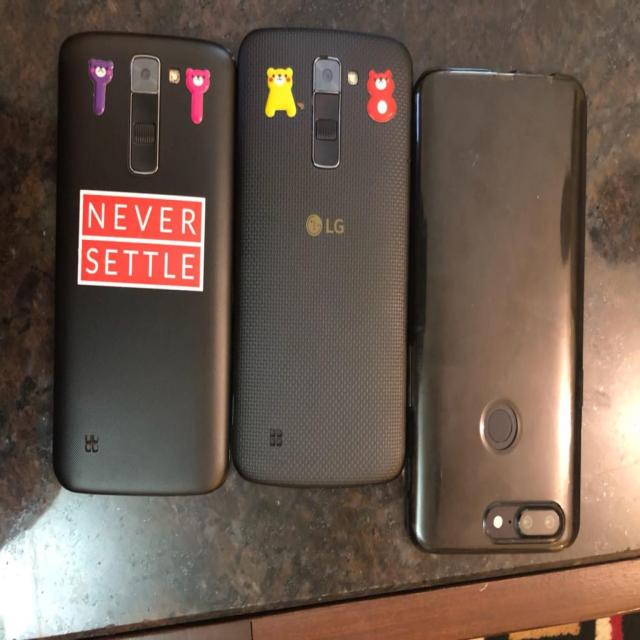Phone: (42, 32, 235, 500), (410, 65, 591, 562), (230, 33, 414, 501)
